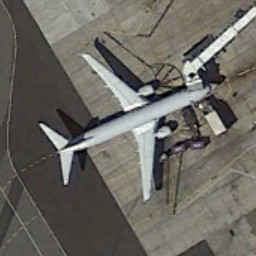Airplane: (35, 47, 221, 207)
